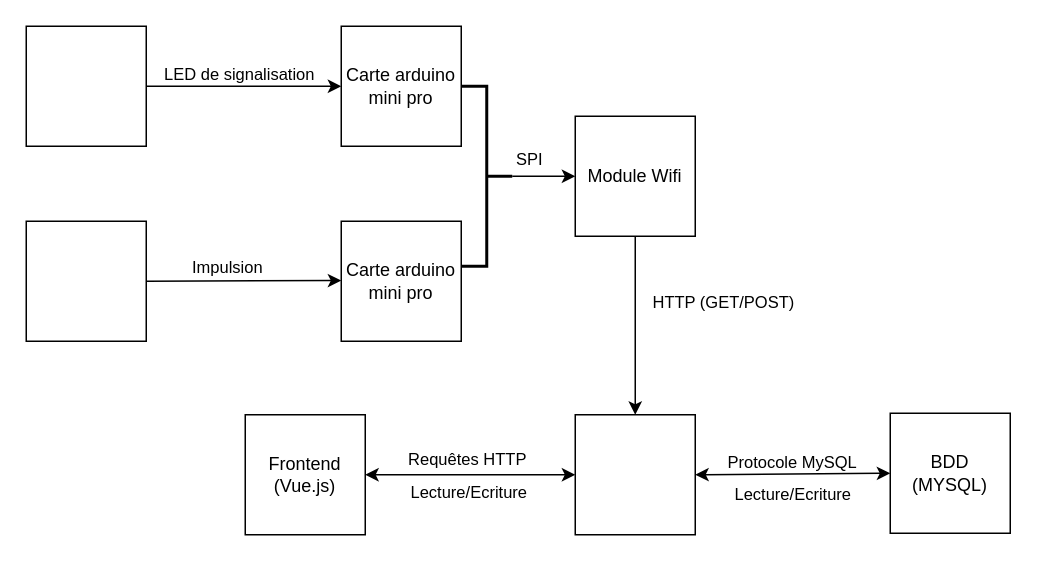
Image size: 1037x561. Some labels were removed from this diagram. Each missing label, with the centre of its shape:
API REST (Flask): [634,474]
Débimètre: [85,280]
Linky: [85,85]
